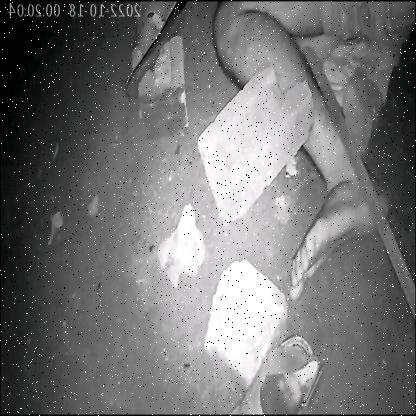leg: (207, 0, 412, 306)
